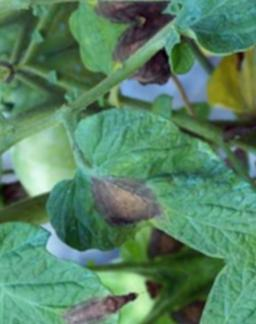Tomato leaf late blight: (12, 44, 256, 316), (0, 160, 189, 324), (145, 0, 256, 91)
